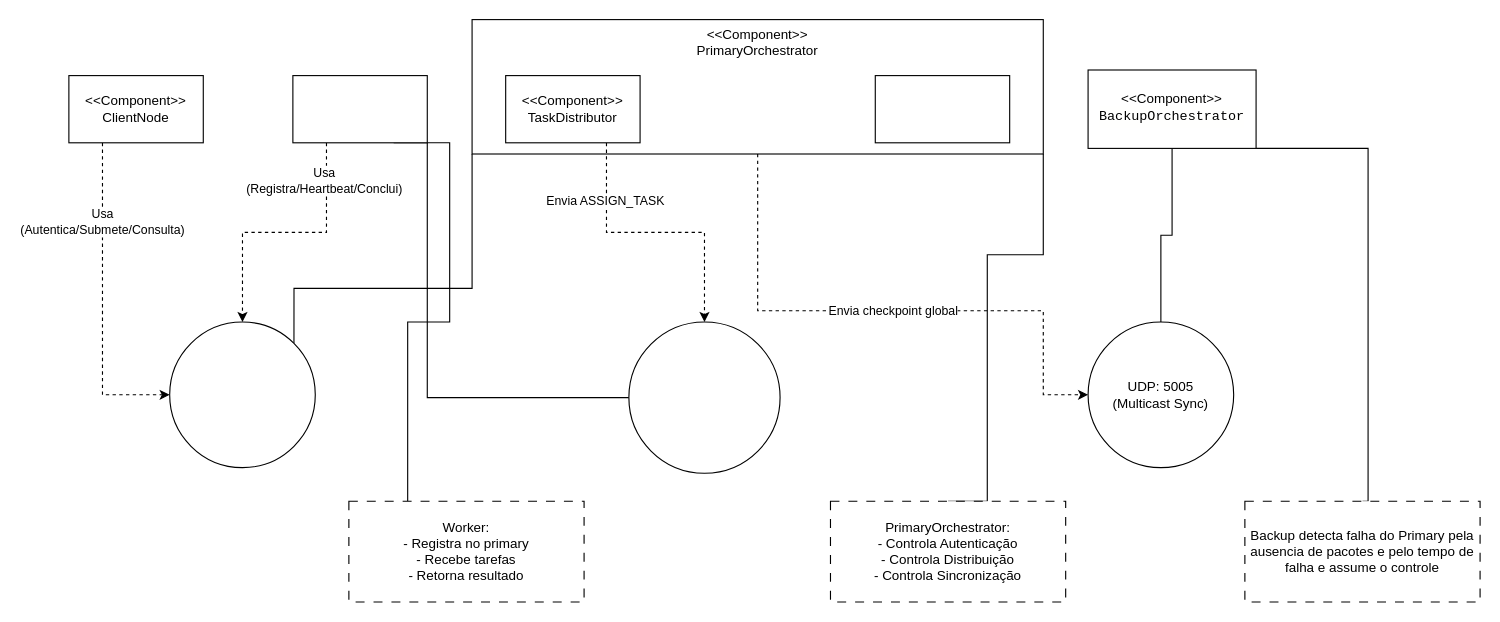
The diagram is 1500 pixels wide and 622 high, and some of its shapes have lost their labels. Each missing label, with the centre of its shape:
<<Component>> AuthService: [942,108]
<<Component>> WorkerNode: [359,108]
TCP: 5000 (API Orquestrador): [242,394]
TCP: Dinâmica (API Worker): [704,397]
